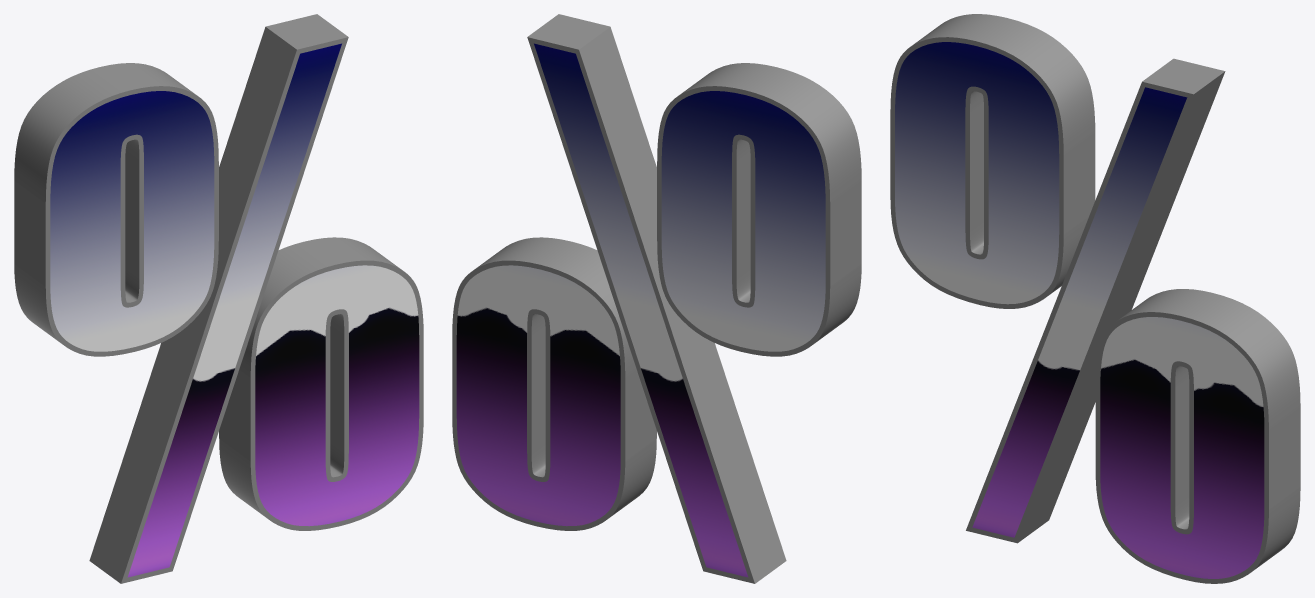
Rendered from Interest.FBX.
3 views of the same model, side by side, from view 1: azimuth 30°, elevation 25°; view 2: azimuth 150°, elevation 25°; view 3: azimuth 330°, elevation 25° (orthographic).
Parts seen in each view (by area): view 1: Interest, Interest_outline; view 2: Interest, Interest_outline; view 3: Interest, Interest_outline.
Boxes of the visible parts, x1=… form: Interest: x1=50, y1=43, x2=419, y2=577; Interest_outline: x1=14, y1=14, x2=423, y2=583; Interest: x1=456, y1=43, x2=825, y2=577; Interest_outline: x1=452, y1=14, x2=861, y2=583; Interest: x1=895, y1=42, x2=1264, y2=578; Interest_outline: x1=890, y1=14, x2=1300, y2=583.
Size of the model in its own units: 83 by 103 by 12.
2 materials, 1 textured.
